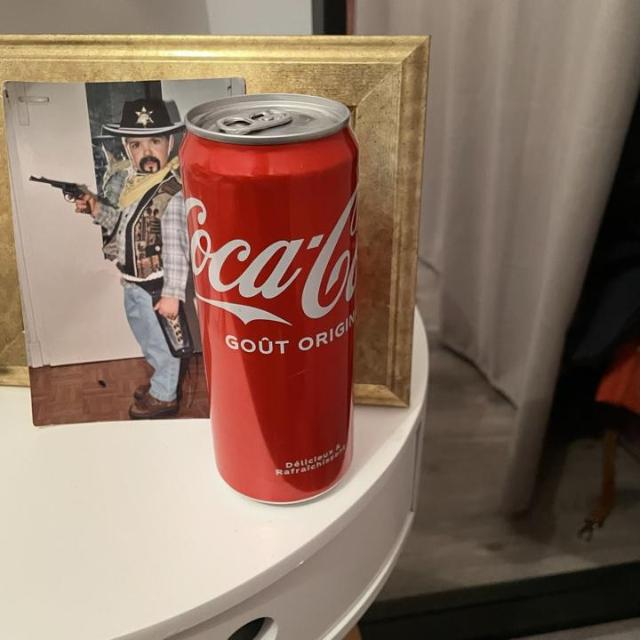can: (169, 87, 373, 511)
